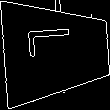L_E: (30, 34, 82, 69)
